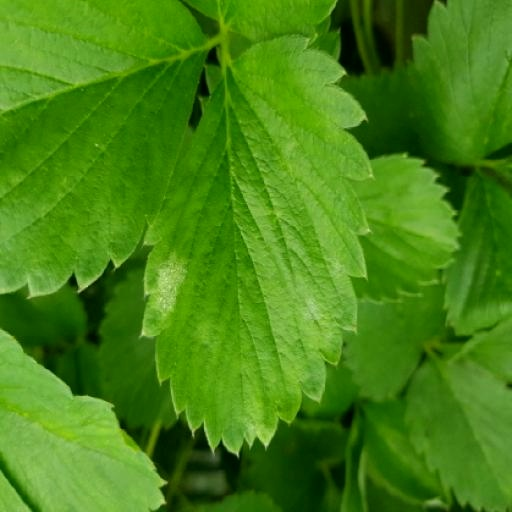Powdery Mildew Leaf: (138, 54, 376, 479)
